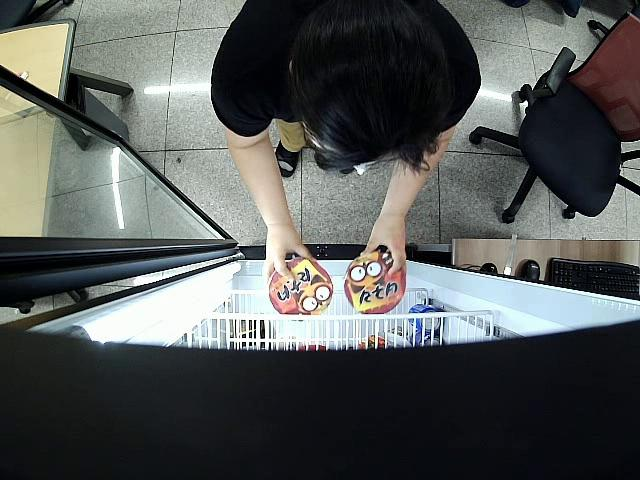00_hand: (361, 212, 408, 282), (261, 224, 318, 281)
05_nuguri_L: (269, 259, 334, 317), (346, 253, 405, 313)
